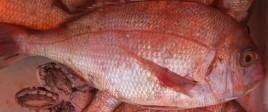fish: (0, 0, 264, 111)
